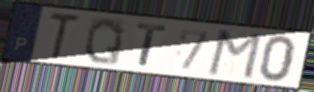0: (257, 34, 298, 83)
7: (177, 28, 210, 71)
M: (204, 29, 264, 81)
Q: (82, 16, 127, 67)
T: (47, 11, 82, 60), (134, 21, 169, 68)
